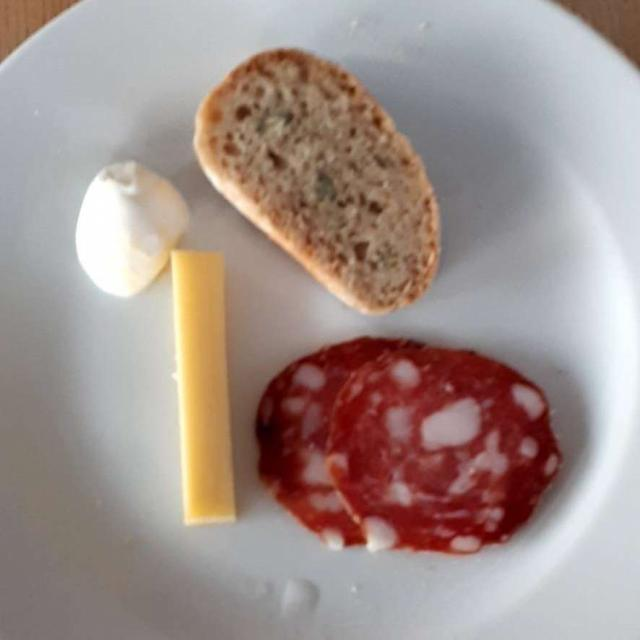bread: (196, 53, 437, 312)
cheese: (70, 160, 195, 296), (178, 251, 237, 519)
salami: (264, 341, 557, 547)
